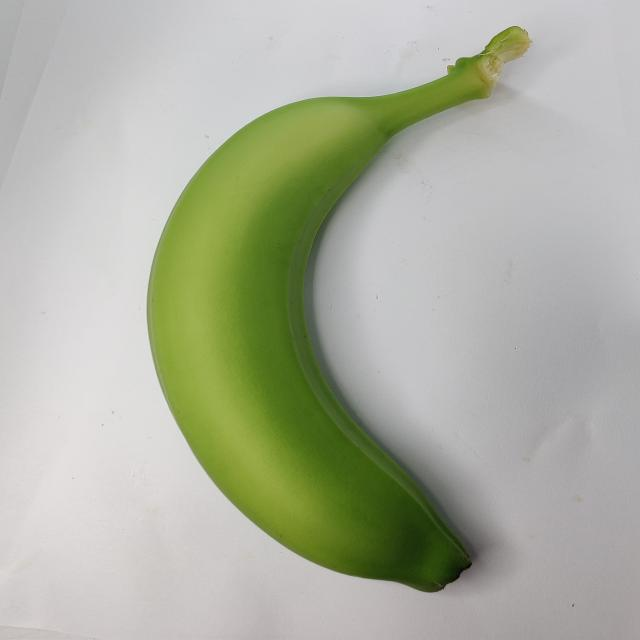Raw: (130, 16, 576, 608)
